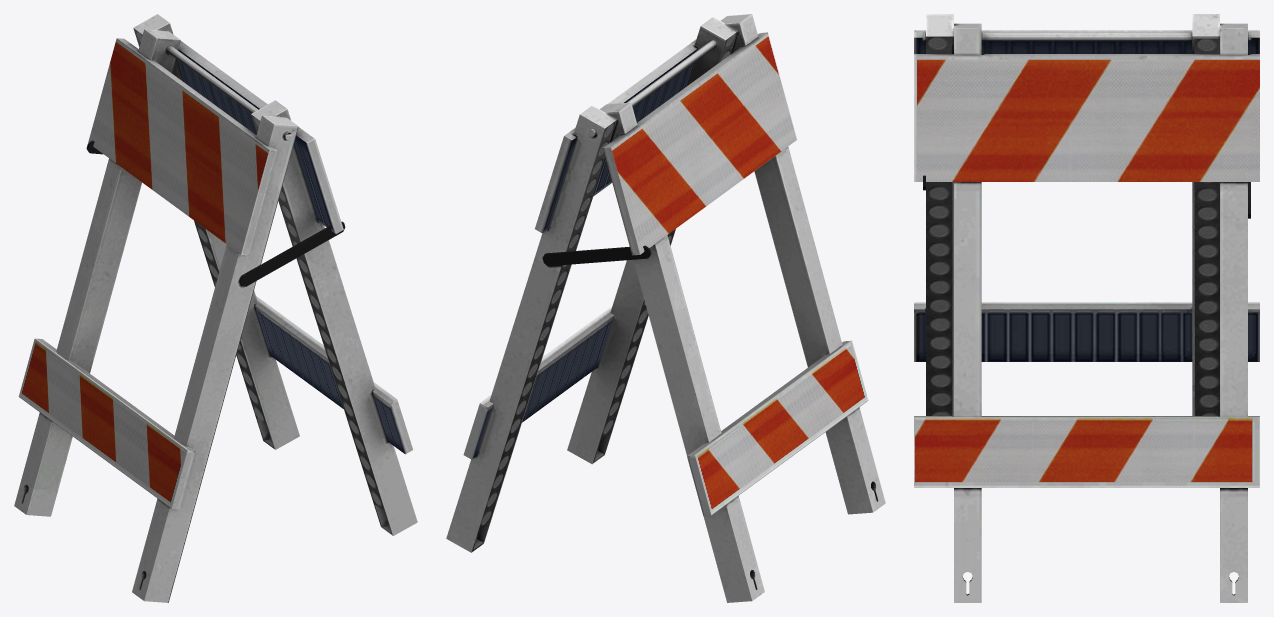
File: BarierCar.FBX
3 views of the same model, side by side, from view 1: azimuth 30°, elevation 25°; view 2: azimuth 150°, elevation 25°; view 3: azimuth 270°, elevation 25° (orthographic). The views are drawn at different scales.
Parts seen in each view (by area): view 1: BarierCar; view 2: BarierCar; view 3: BarierCar.
Boxes of the visible parts, x1,y1,x2,y2 form: BarierCar: [14, 14, 417, 602]; BarierCar: [446, 14, 885, 602]; BarierCar: [914, 14, 1259, 602].
Size of the model in its own units: 30.67 by 46.41 by 28.42.
